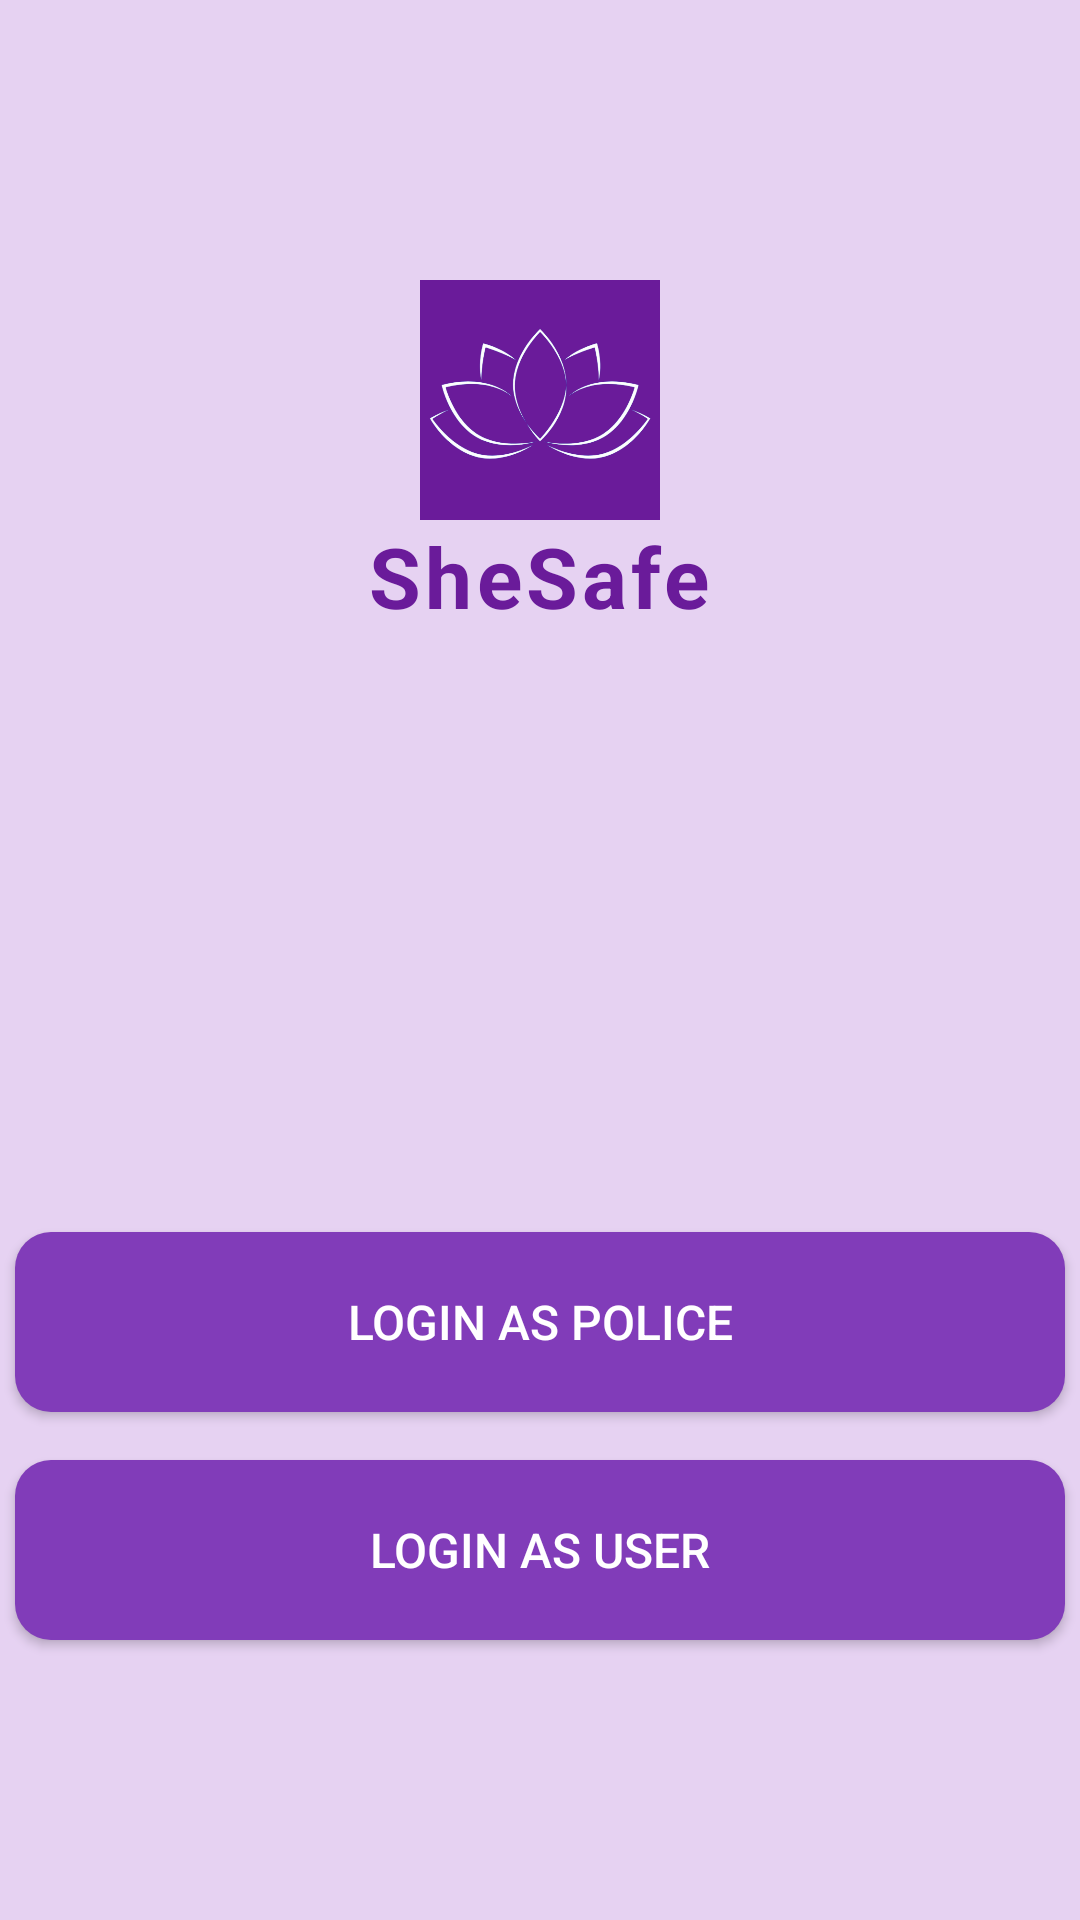

Where to tap for icons on this 1080*1920 app screen, as (x=x, y=y):
lotus: (x=540, y=400)
